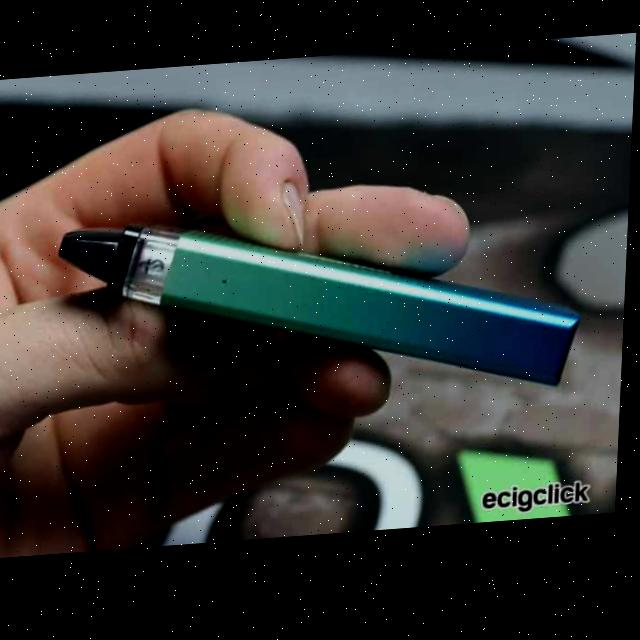vape: (56, 199, 588, 426)
